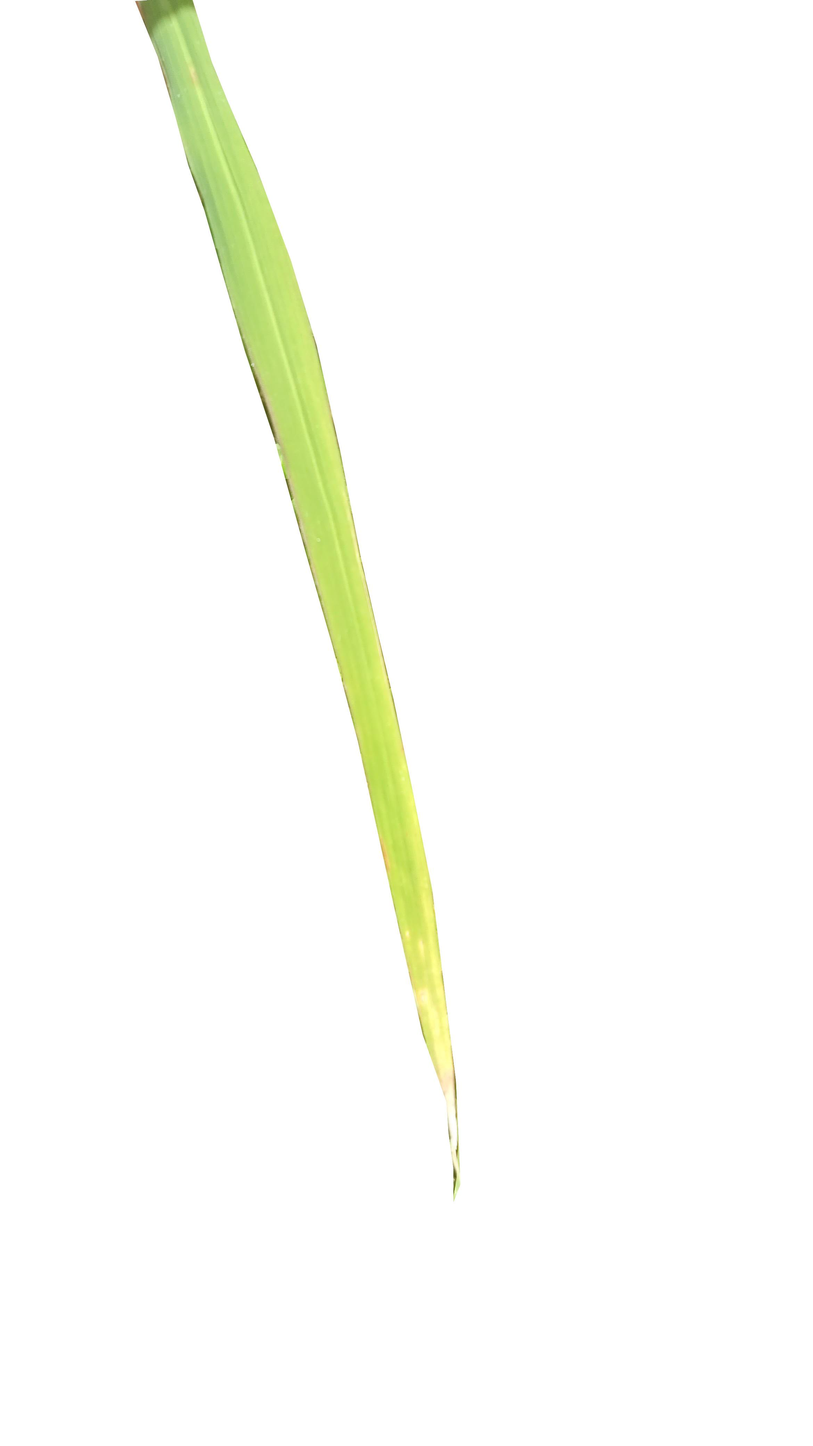Tungro: (134, 0, 464, 1208)
